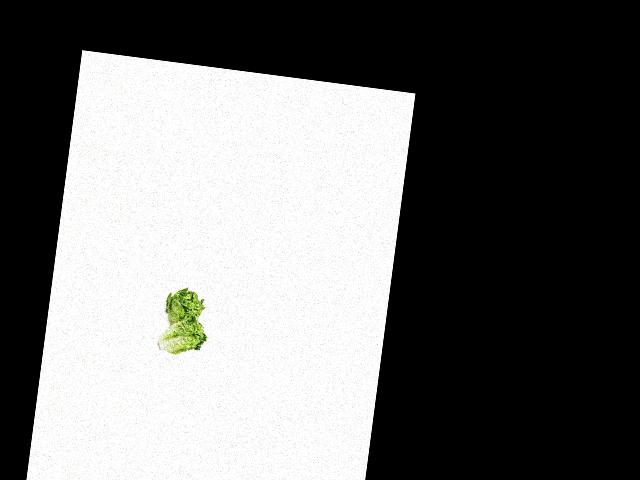lettuce: (157, 284, 207, 332)
